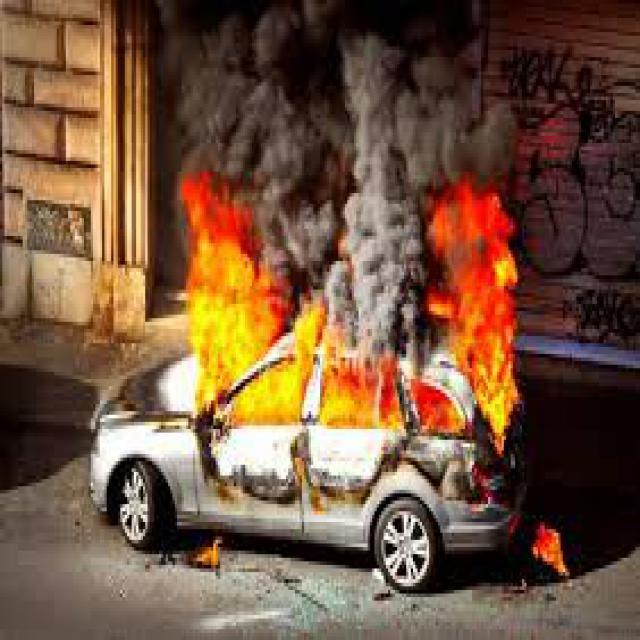fire: (186, 192, 526, 440)
smoke: (152, 9, 522, 182)
